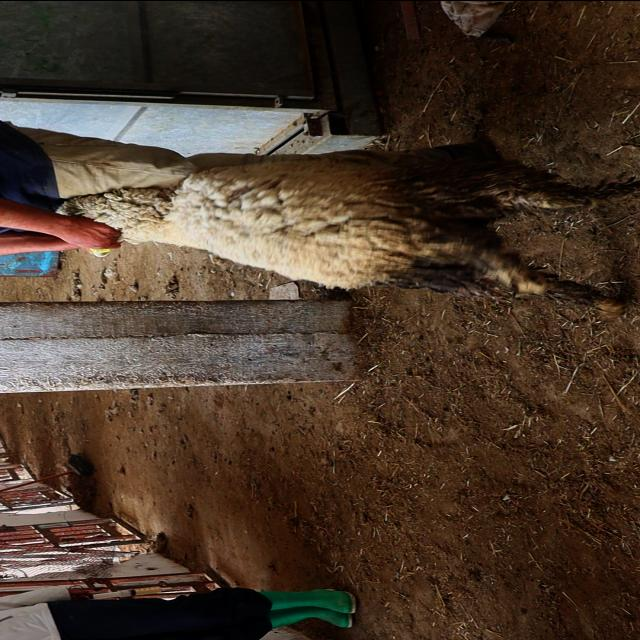Score_3: (59, 149, 639, 315)
